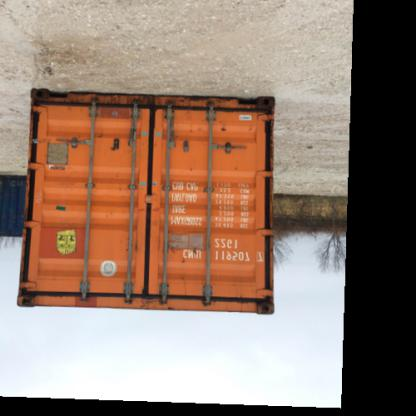Damage: (32, 92, 164, 114), (160, 228, 216, 264), (130, 290, 192, 318), (232, 98, 278, 122), (250, 287, 278, 315), (121, 224, 142, 258), (42, 202, 74, 221), (107, 135, 124, 167), (16, 284, 34, 308), (210, 116, 226, 140)
